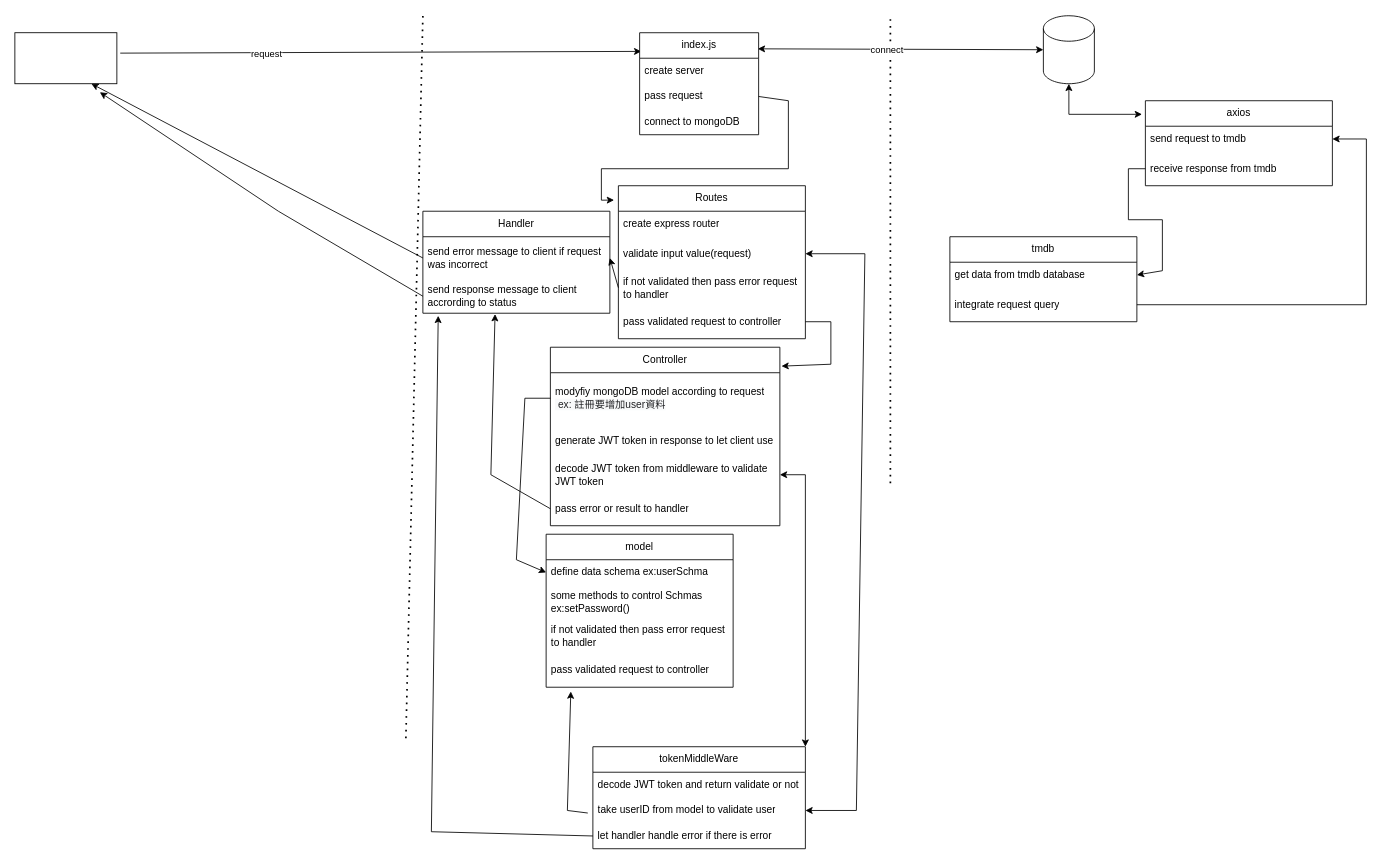
Image size: 1388x864. Some labels were removed from this diagram. Each missing label, with the centre of its shape:
"Client" goes at pixel 65 58.
"tmdb mongoDB database" goes at pixel 1068 49.
